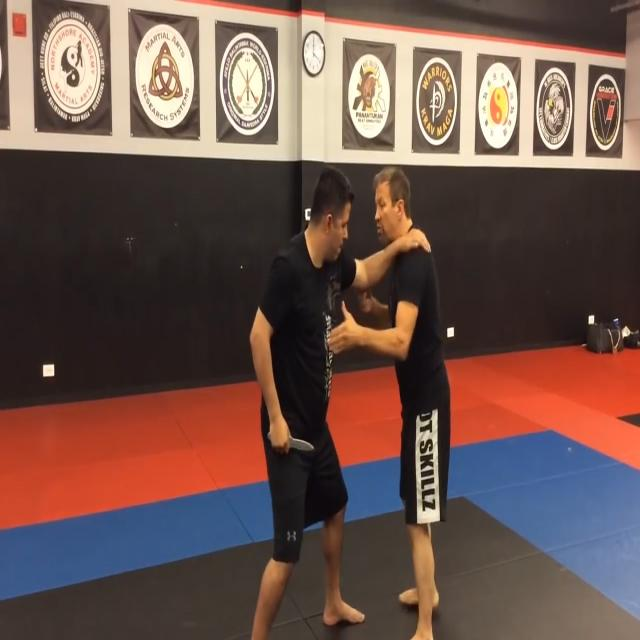knife: (283, 434, 317, 455)
